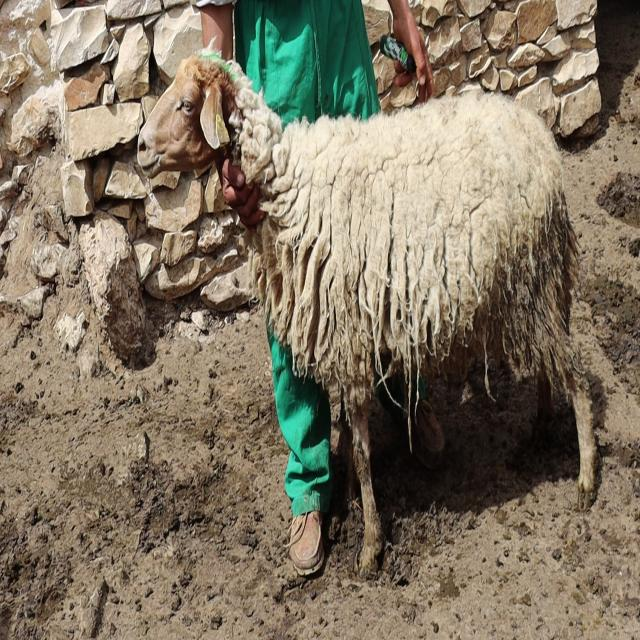Score_2: (138, 46, 597, 562)
